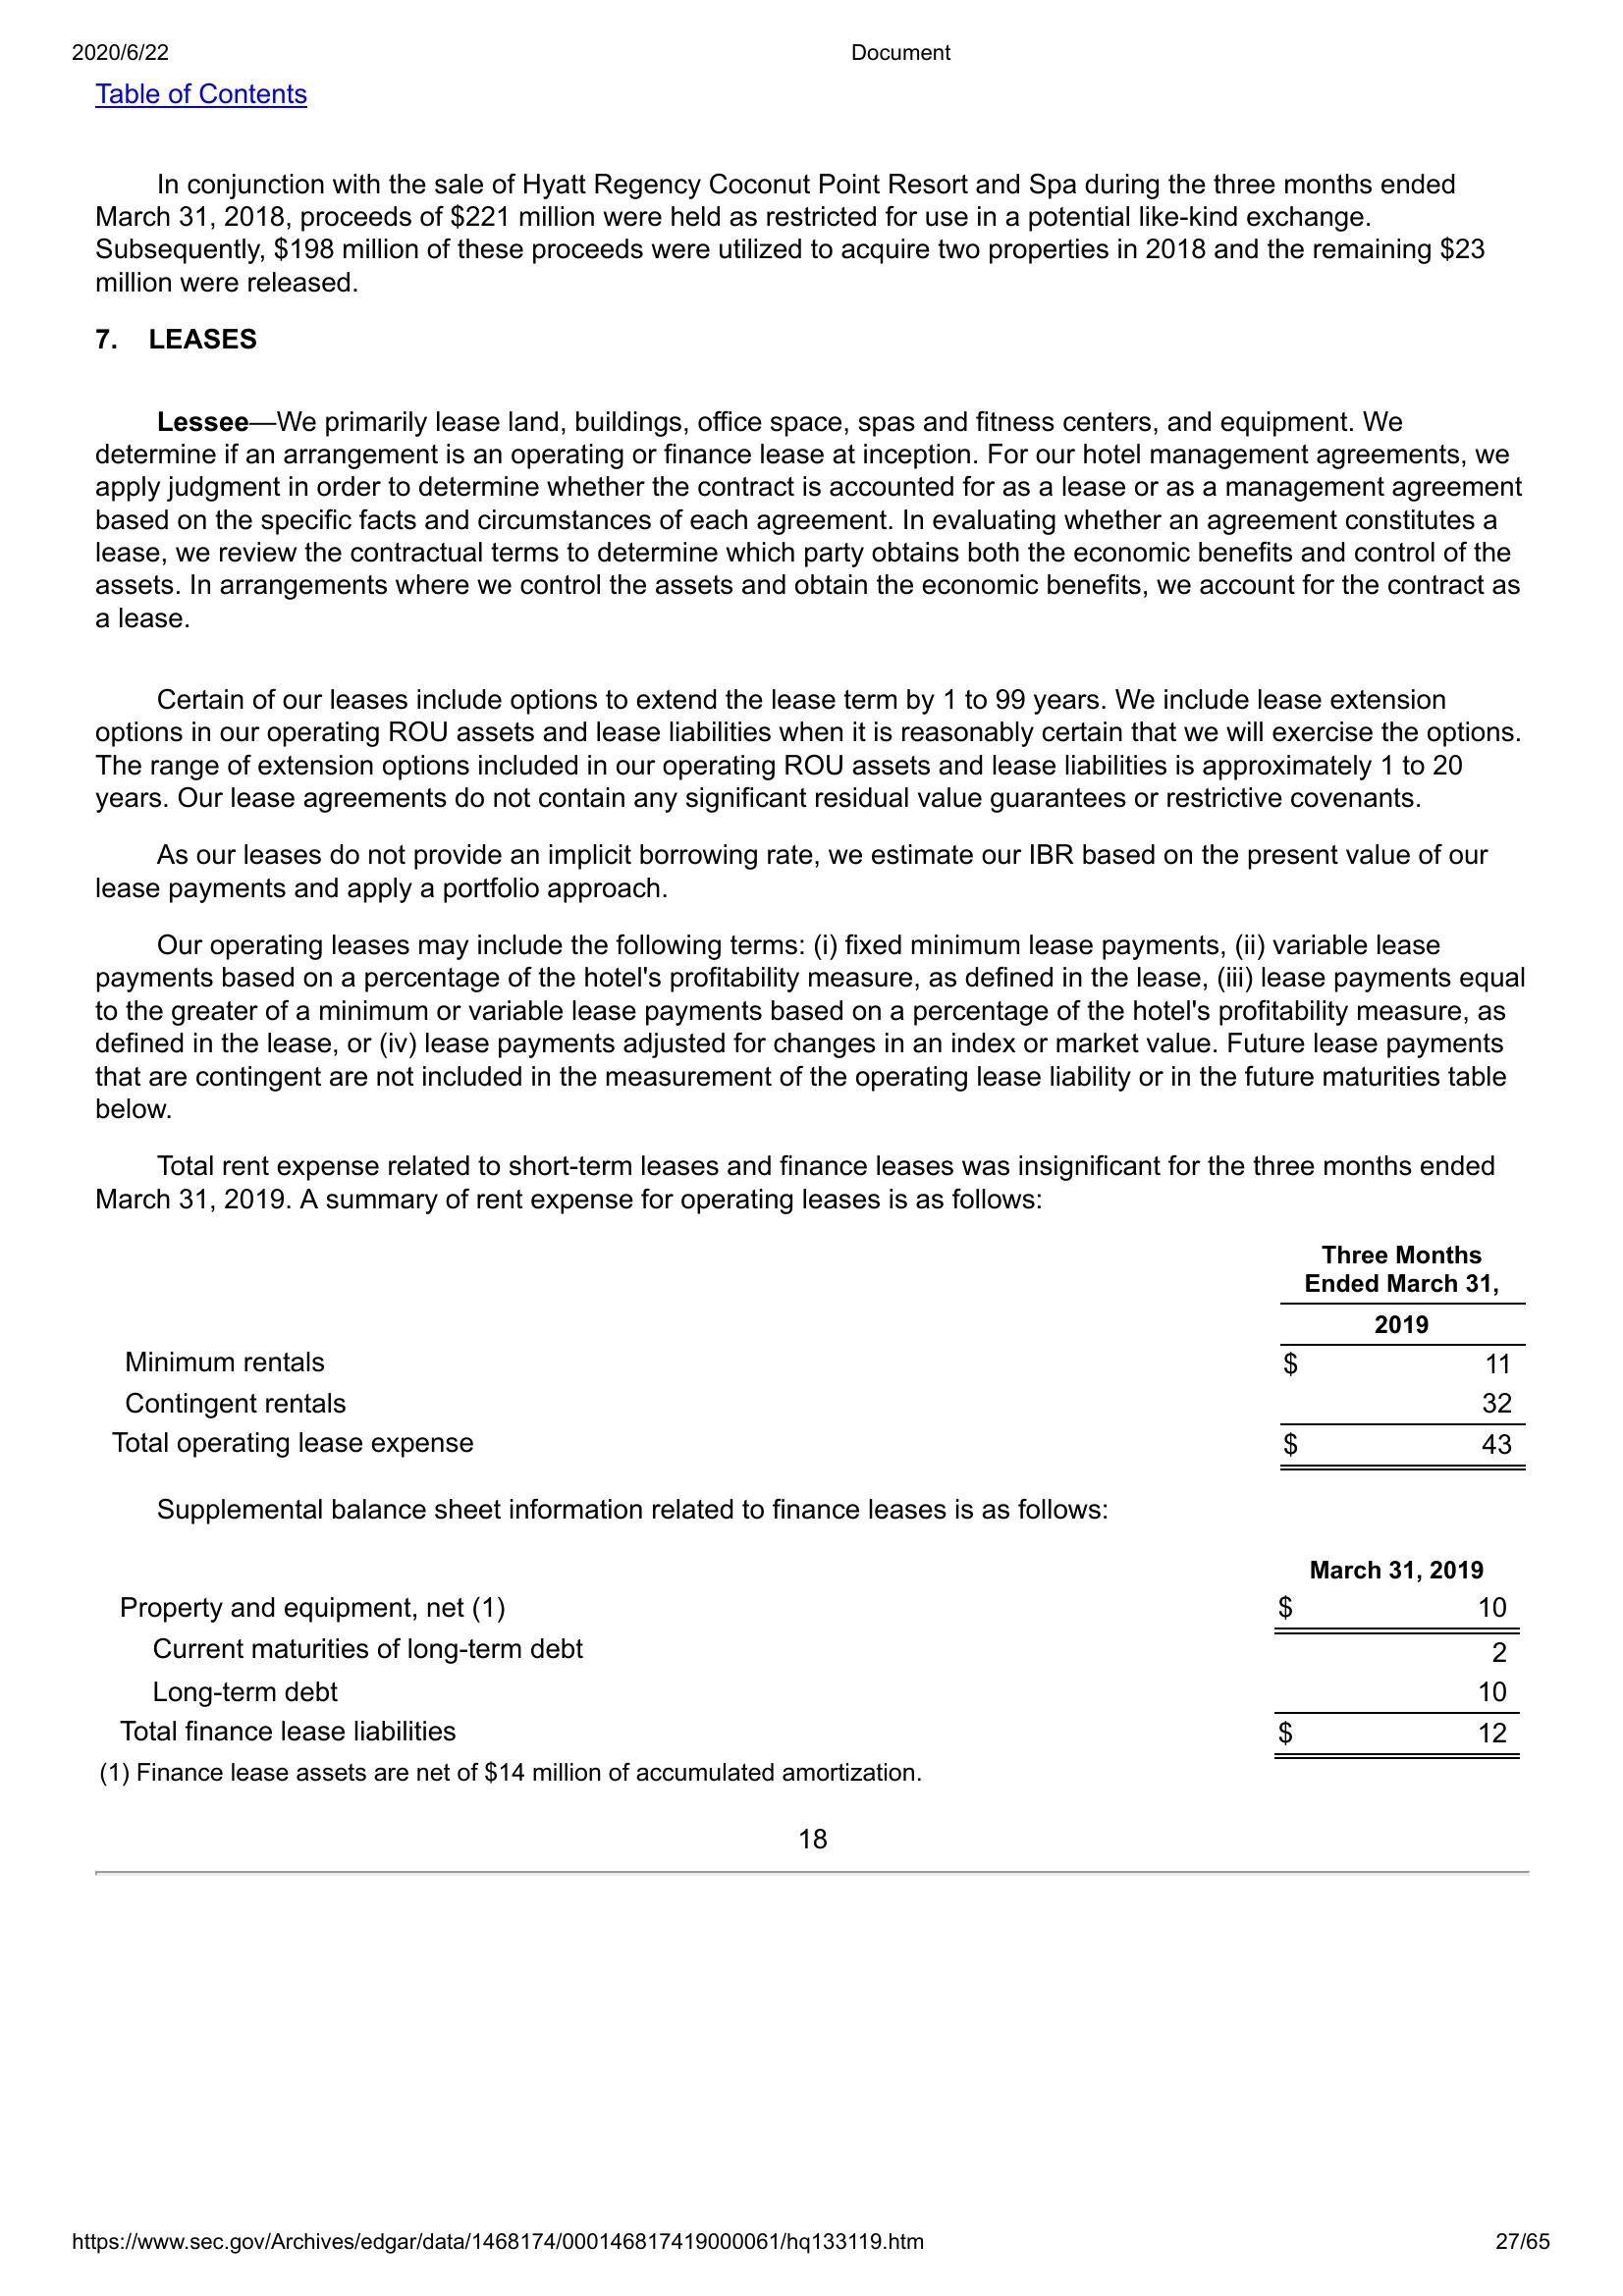table: (107, 1231, 1533, 1482), (105, 1557, 1528, 1764)
